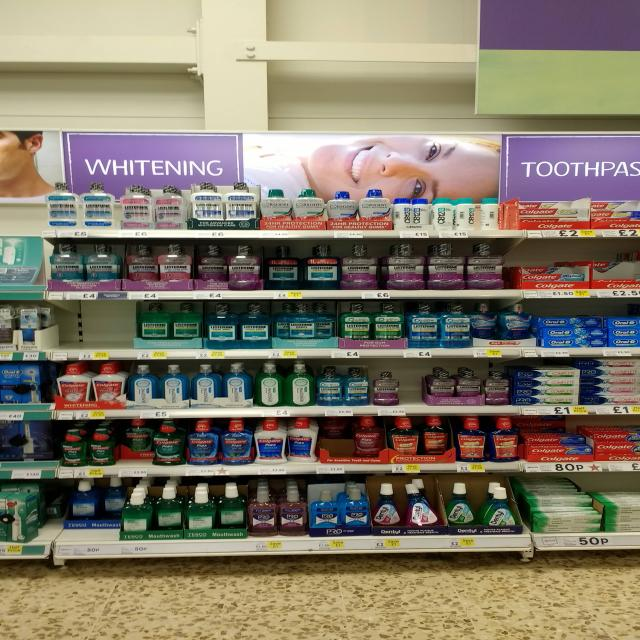void: (92, 304, 130, 363), (56, 302, 85, 360), (401, 362, 425, 416)
